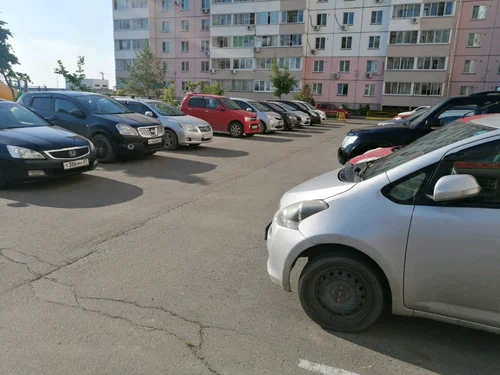Car: (268, 114, 500, 334), (337, 91, 500, 164), (18, 91, 164, 163), (0, 100, 97, 188), (347, 112, 500, 165), (111, 96, 213, 150), (180, 93, 260, 138), (230, 98, 284, 133), (265, 100, 321, 125), (256, 101, 302, 131), (270, 102, 311, 126), (379, 108, 431, 124), (295, 101, 326, 121), (314, 103, 349, 117), (399, 105, 431, 115), (394, 110, 425, 119)
